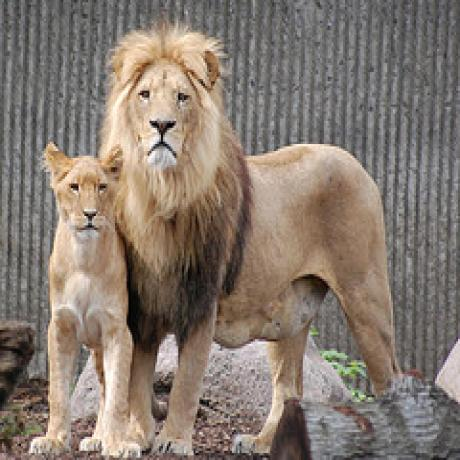Lion: (103, 23, 397, 456), (43, 142, 133, 458)
